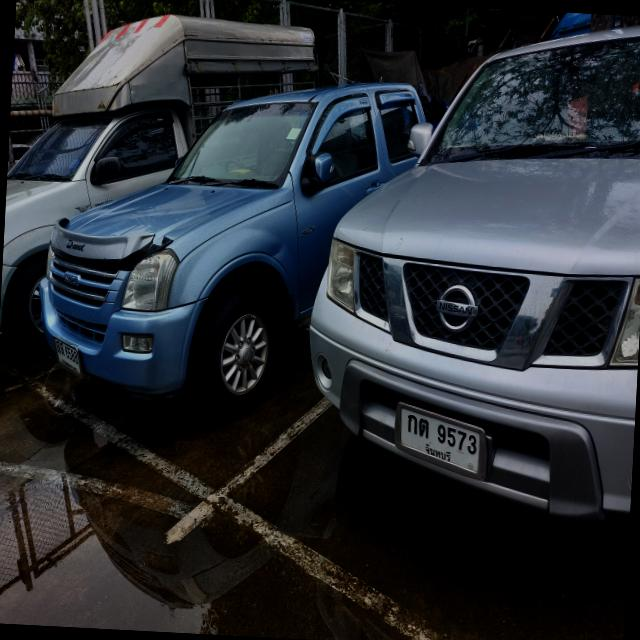license_plate: (392, 397, 491, 484), (51, 335, 87, 382)
